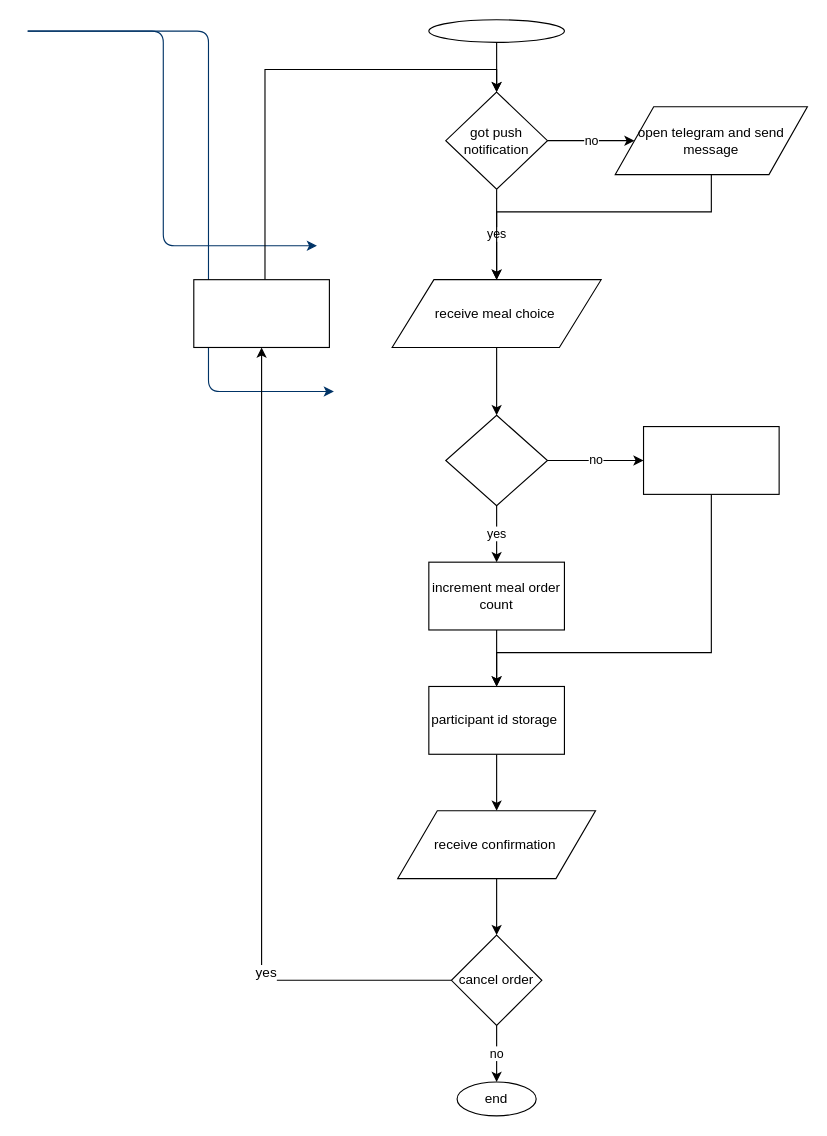
Some shapes in this 827 by 1136 pixel diagram are drawn without their labels. The shapes that lost their labels are listed below. From the top down, each one's centre as x and y in pixels, then its label:
the point at 496,30: Start
the point at 261,313: decrement counter
the point at 496,460: place order
the point at 710,459: increment rejection count
